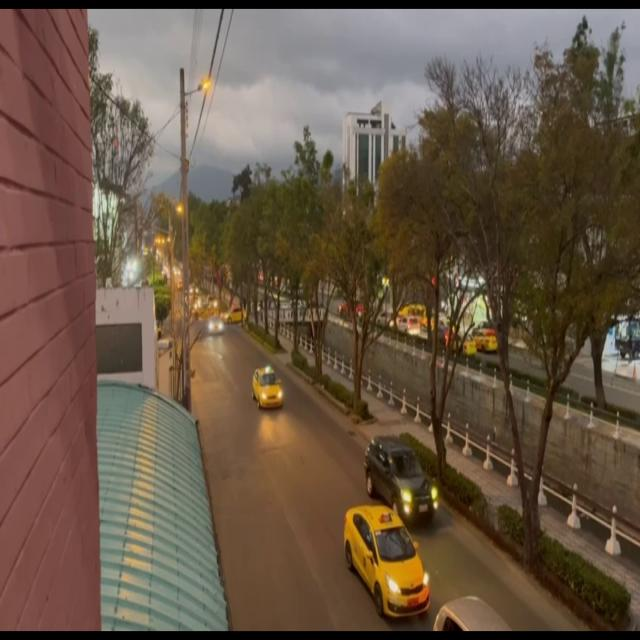SED: (346, 510, 426, 618), (254, 370, 284, 407)
SUV: (366, 434, 433, 511)
